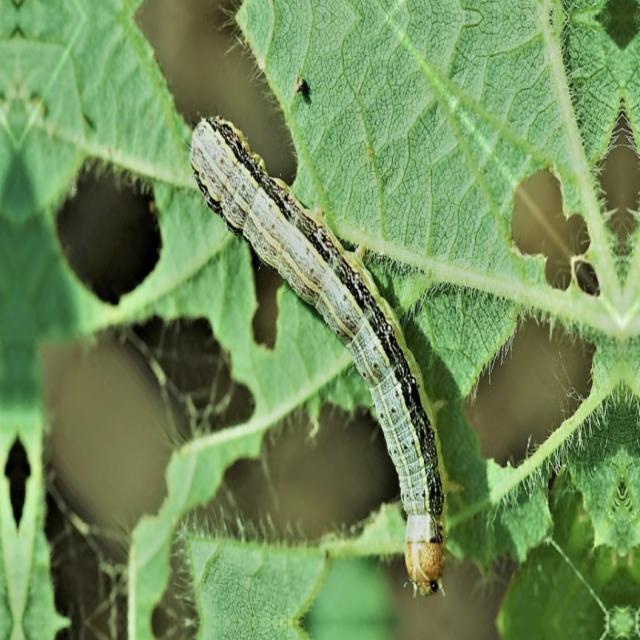armyworm: (188, 111, 447, 598)
